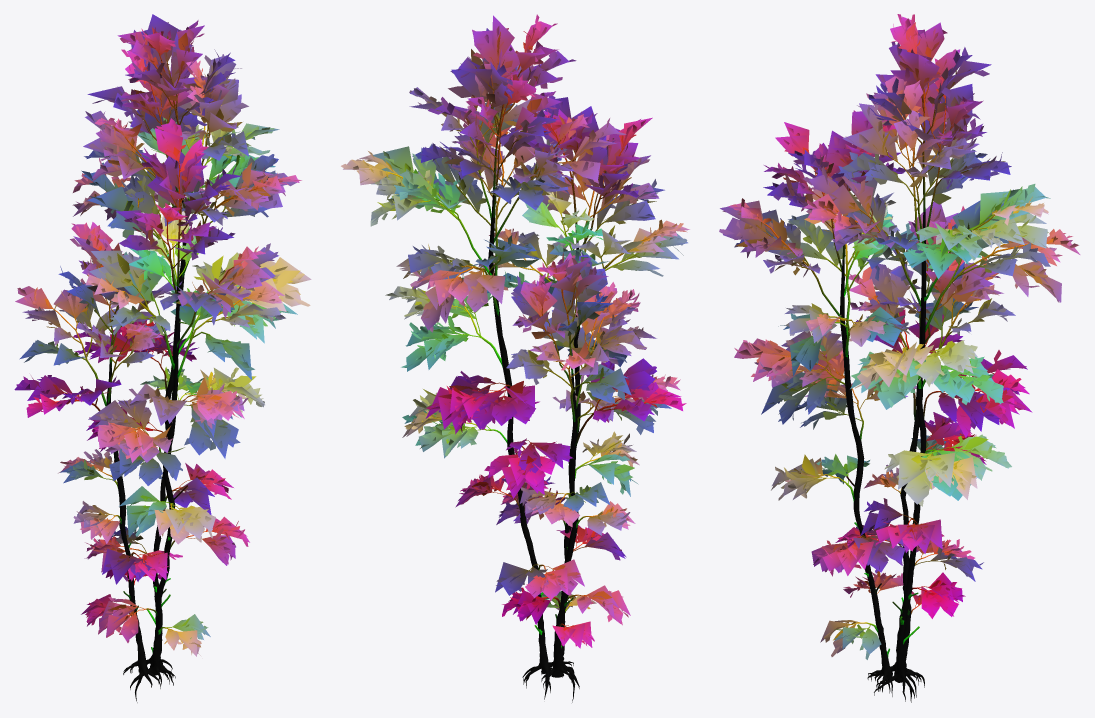
Rendered from SM_EuropeanBeech_L_01.fbx.
3 views of the same model, side by side, from view 1: azimuth 30°, elevation 25°; view 2: azimuth 150°, elevation 25°; view 3: azimuth 270°, elevation 25° (orthographic). The views are drawn at different scales.
Parts seen in each view (by area): view 1: SM_EuropeanBeech_L_01_LOD0; view 2: SM_EuropeanBeech_L_01_LOD0; view 3: SM_EuropeanBeech_L_01_LOD0.
Boxes of the visible parts, x1=… form: SM_EuropeanBeech_L_01_LOD0: x1=14, y1=14, x2=311, y2=702; SM_EuropeanBeech_L_01_LOD0: x1=341, y1=14, x2=689, y2=702; SM_EuropeanBeech_L_01_LOD0: x1=719, y1=14, x2=1080, y2=702.
Bounding box in the file's own units: 466 × 494 × 1046.
